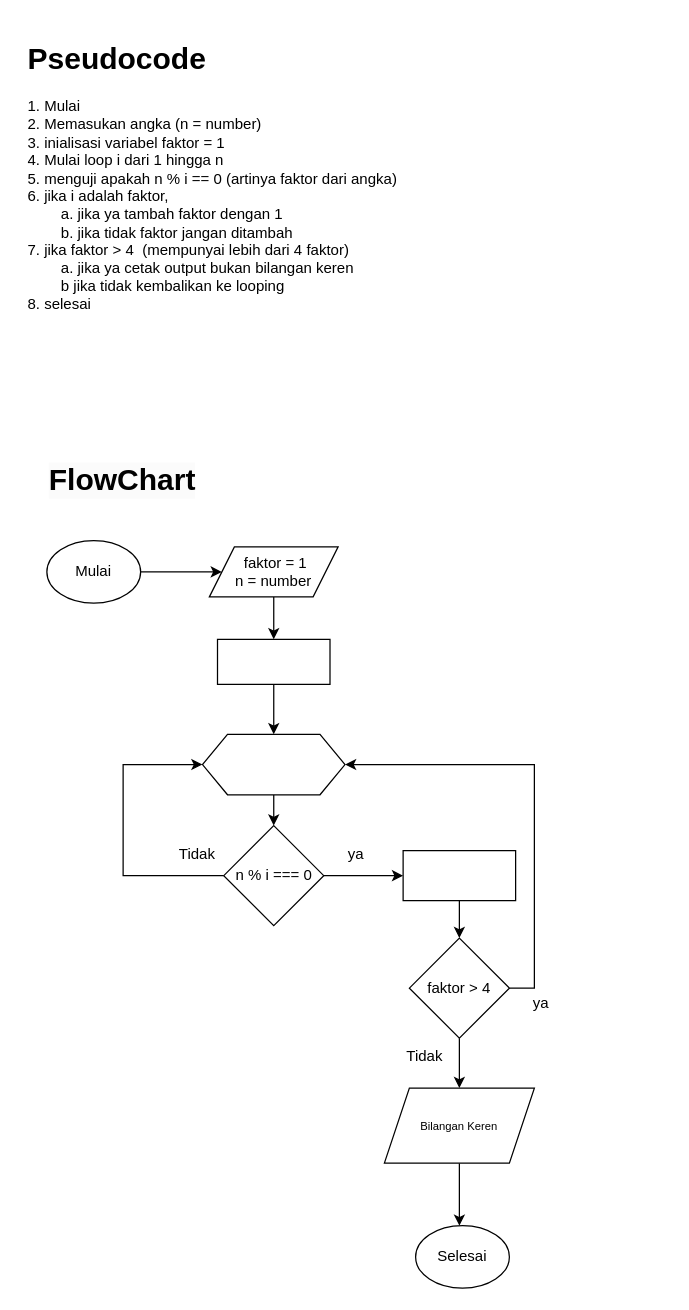
Image size: 689x1310. Some labels were removed from this diagram. The box of each missing label's shape, as (x1, y1, x2, y2) in pixels:
faktor++: (402, 849, 516, 901)
for i = 1 i < n i++: (201, 733, 345, 795)
let faktor = 1: (216, 638, 330, 684)
